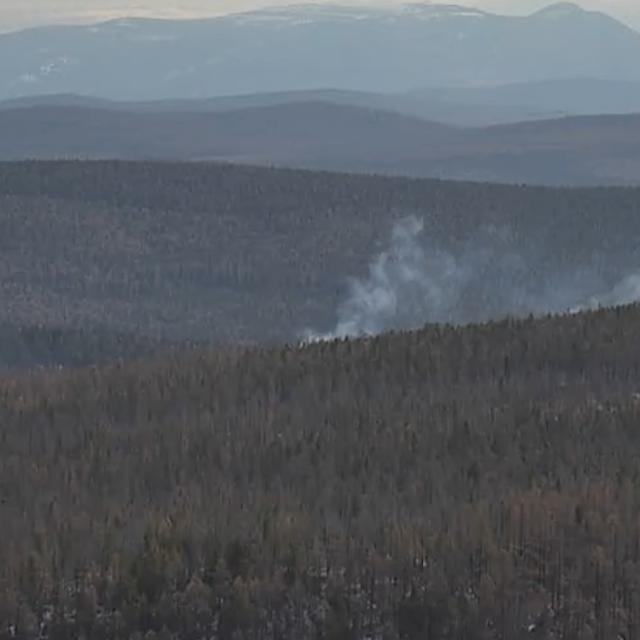Smoke: (301, 220, 640, 346)
